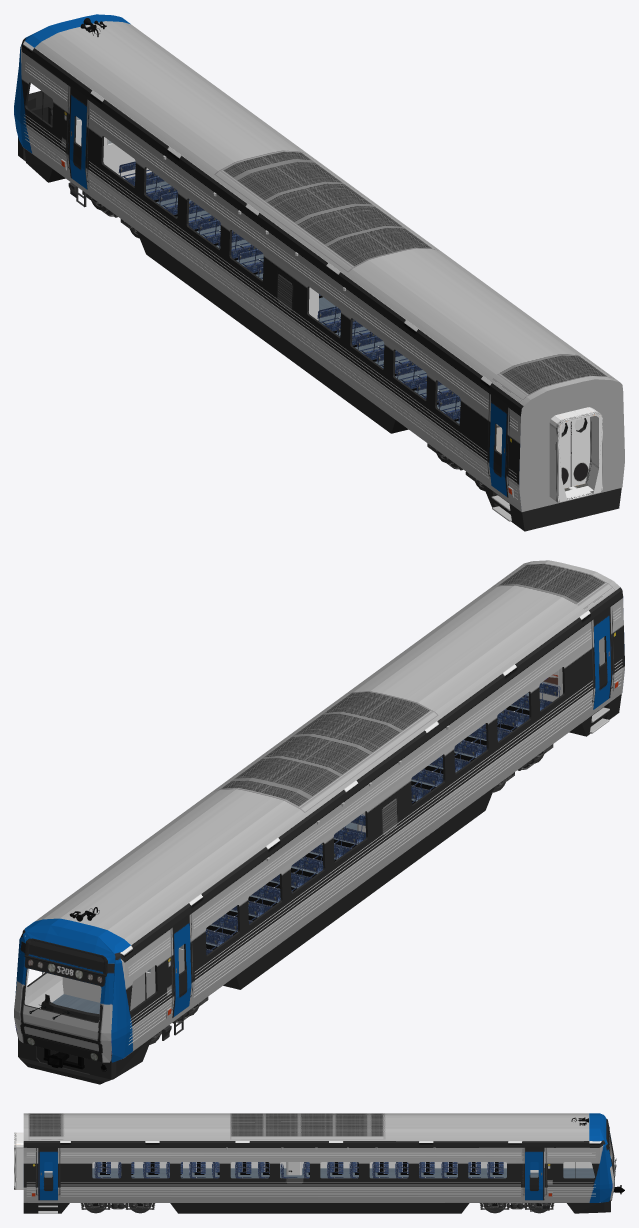
File: nswendeavour_back.obj
3 views of the same model, one above another, from view 1: azimuth 30°, elevation 25°; view 2: azimuth 150°, elevation 25°; view 3: azimuth 270°, elevation 25° (orthographic). The views are drawn at different scales.
Parts seen in each view (by area): view 1: jibung2, frontside, bid, habu, backout, oscarchair, mak, badak, backdoor, door_RB, door_RF, driverwall; view 2: jibung2, frontside, bid, front, oscarchair, habu, bumper, driverwall, door_RB, door_RF, badak, frontteul (+1 smaller); view 3: frontside, jibung2, bid, habu, oscarchair, badak, DT71, front_inside, door_LF, door_LB, mak, front (+2 smaller).
Boxes of the visible parts, x1,y1,x2,y2 form: jibung2: (25,14,619,405); frontside: (14,38,624,511); bid: (24,62,517,499); habu: (24,149,621,531); backout: (519,379,624,511); oscarchair: (118,161,460,424); mak: (549,407,602,502); badak: (146,181,460,423); backdoor: (561,417,589,488); door_RB: (68,94,87,189); door_RF: (489,402,508,497); driverwall: (75,116,151,178); jibung2: (26,560,619,951); frontside: (15,587,624,1062); bid: (128,607,622,1045); front: (14,925,121,1062); oscarchair: (205,682,560,954); habu: (112,694,621,1079); bumper: (18,1037,116,1084); driverwall: (62,944,184,1010); door_RB: (172,922,191,1017); door_RF: (593,614,612,709); badak: (52,692,529,1013); frontteul: (20,938,107,1053); frontside: (23,1140,612,1202); jibung2: (23,1113,599,1141); bid: (26,1152,595,1196); habu: (23,1202,604,1213); oscarchair: (94,1162,503,1178); badak: (44,1168,594,1196); DT71: (80,1203,554,1213); front_inside: (92,1148,611,1168); door_LF: (38,1151,57,1200); door_LB: (525,1151,544,1200); mak: (14,1132,23,1189); front: (600,1113,614,1200).
Bounding box in the file's own units: 3.06 × 4.18 × 26.15.
37 materials, 36 textured.
